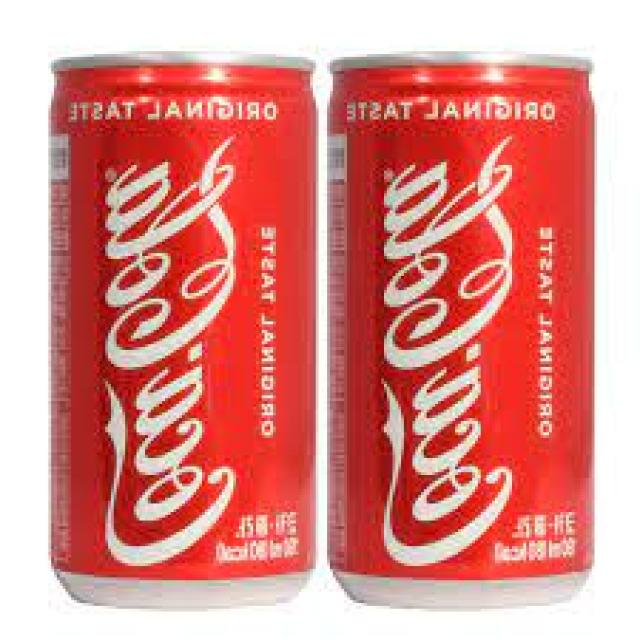Coca-Cola: (318, 44, 607, 617), (40, 43, 318, 611)
